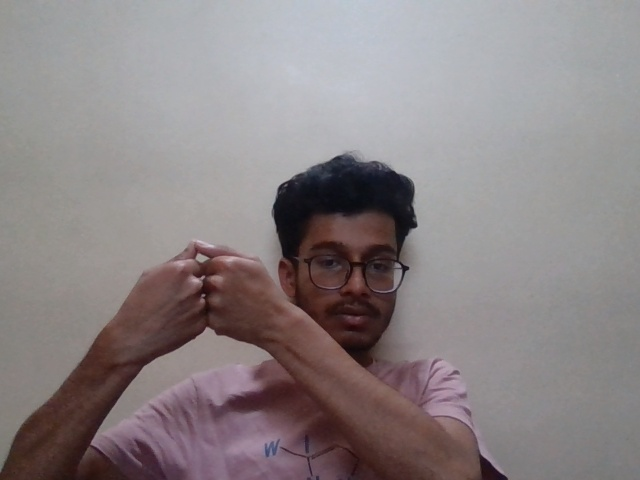sorry: (103, 237, 285, 357)
